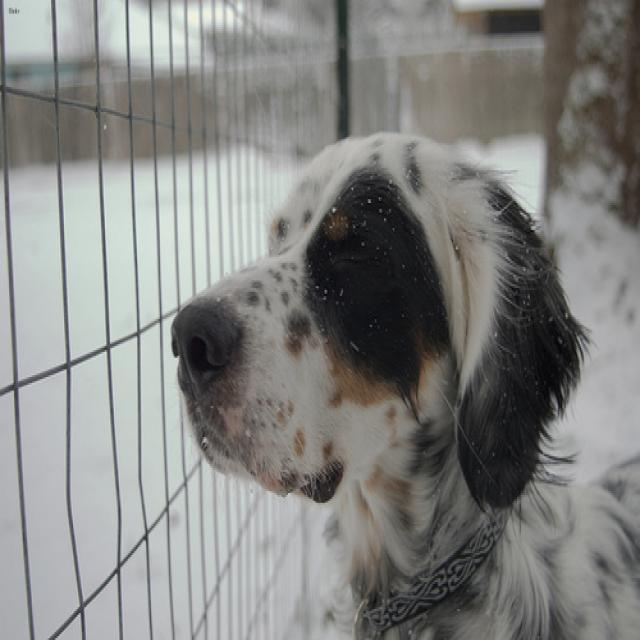dog-english_setter: (155, 126, 637, 636)
